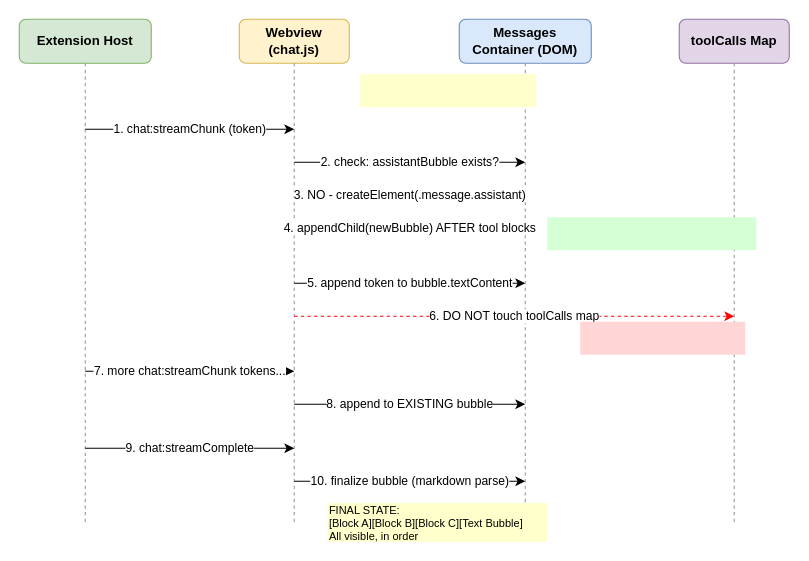
Image size: 809x561. Some labels were removed from this diagram. The shapes that lost their labels are listed below. From the top down, each one's box as (x1, y1, x2, y2) in pixels, then its label:
(360, 74, 536, 107): EXISTING STATE: Tool blocks A, B, C in DOM
(547, 217, 756, 250): KEY: appendChild, NOT innerHTML! Tool blocks A,B,C untouched
(580, 321, 745, 354): toolCalls map preserved (no clear, no delete)
